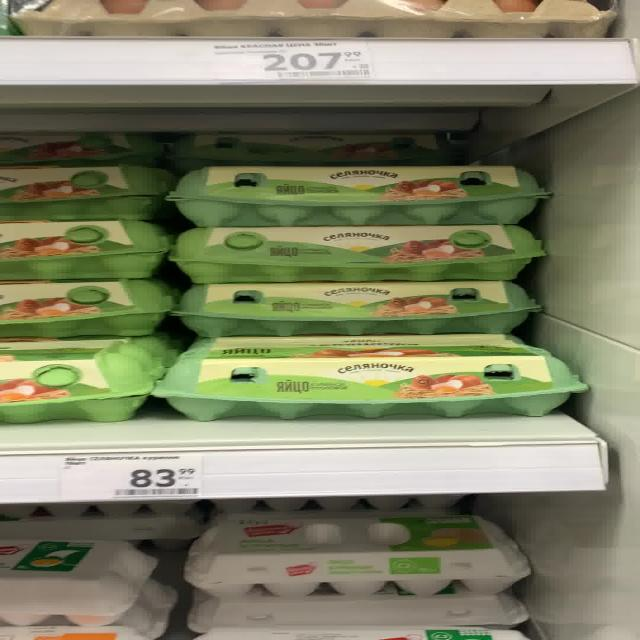egg box: (156, 337, 584, 416), (185, 510, 528, 596), (168, 163, 547, 226), (166, 221, 536, 280), (178, 280, 542, 337)
